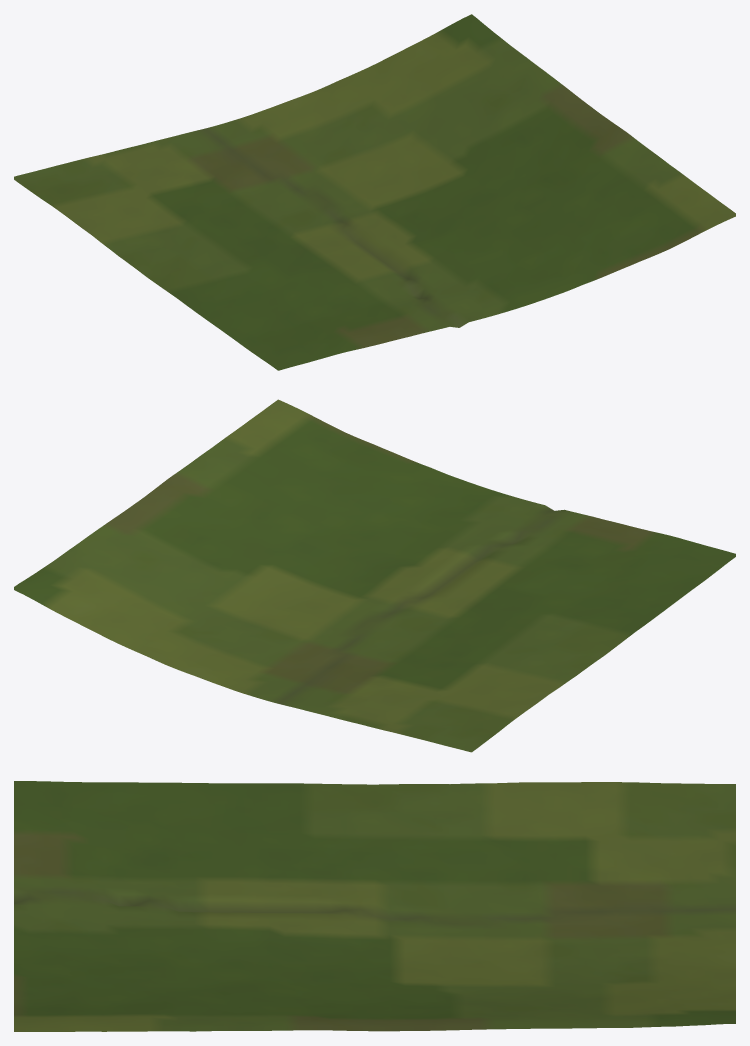
File: land_m_08_07.glb
3 views of the same model, one above another, from view 1: azimuth 30°, elevation 25°; view 2: azimuth 150°, elevation 25°; view 3: azimuth 270°, elevation 25° (orthographic). The views are drawn at different scales.
Visible parts, largest first — view 1: land_m_08_07; view 2: land_m_08_07; view 3: land_m_08_07.
Part boxes in pixels (x1,y1,x2,y2): land_m_08_07: [14, 14, 735, 370]; land_m_08_07: [14, 399, 735, 752]; land_m_08_07: [14, 781, 735, 1031].
Bounding box in the file's own units: 960 × 109 × 960.
